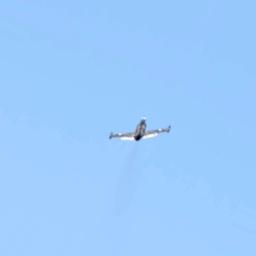Airplane: (108, 118, 171, 143)
